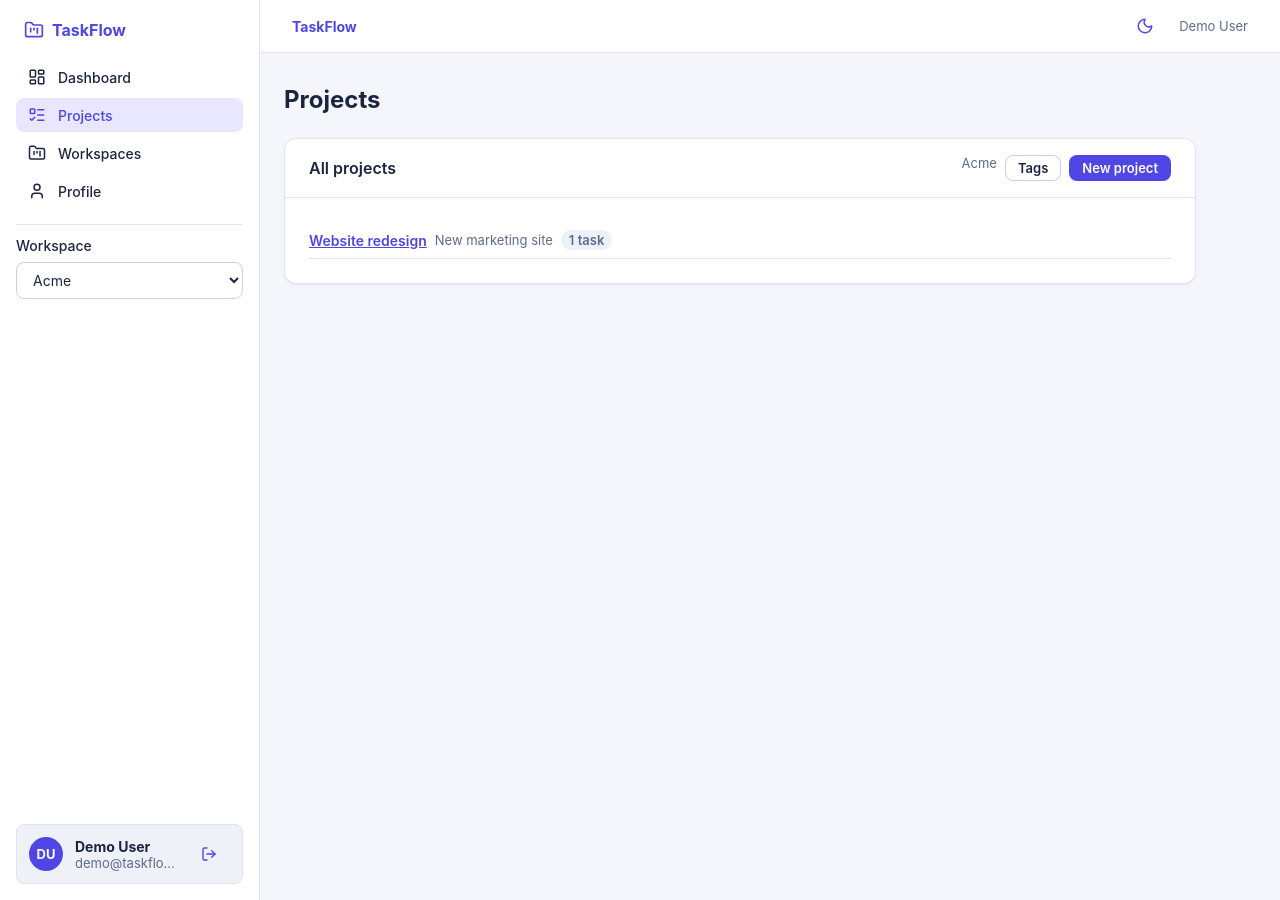
create-pane — "New project opens the creation drawer" (@w2) › opens a labelled dialog with name, description and color fields
Expected: the link "Website redesign" is shown, [309,232,427,248]
Click the button "New project": (1120, 168) [1069,155,1171,181]
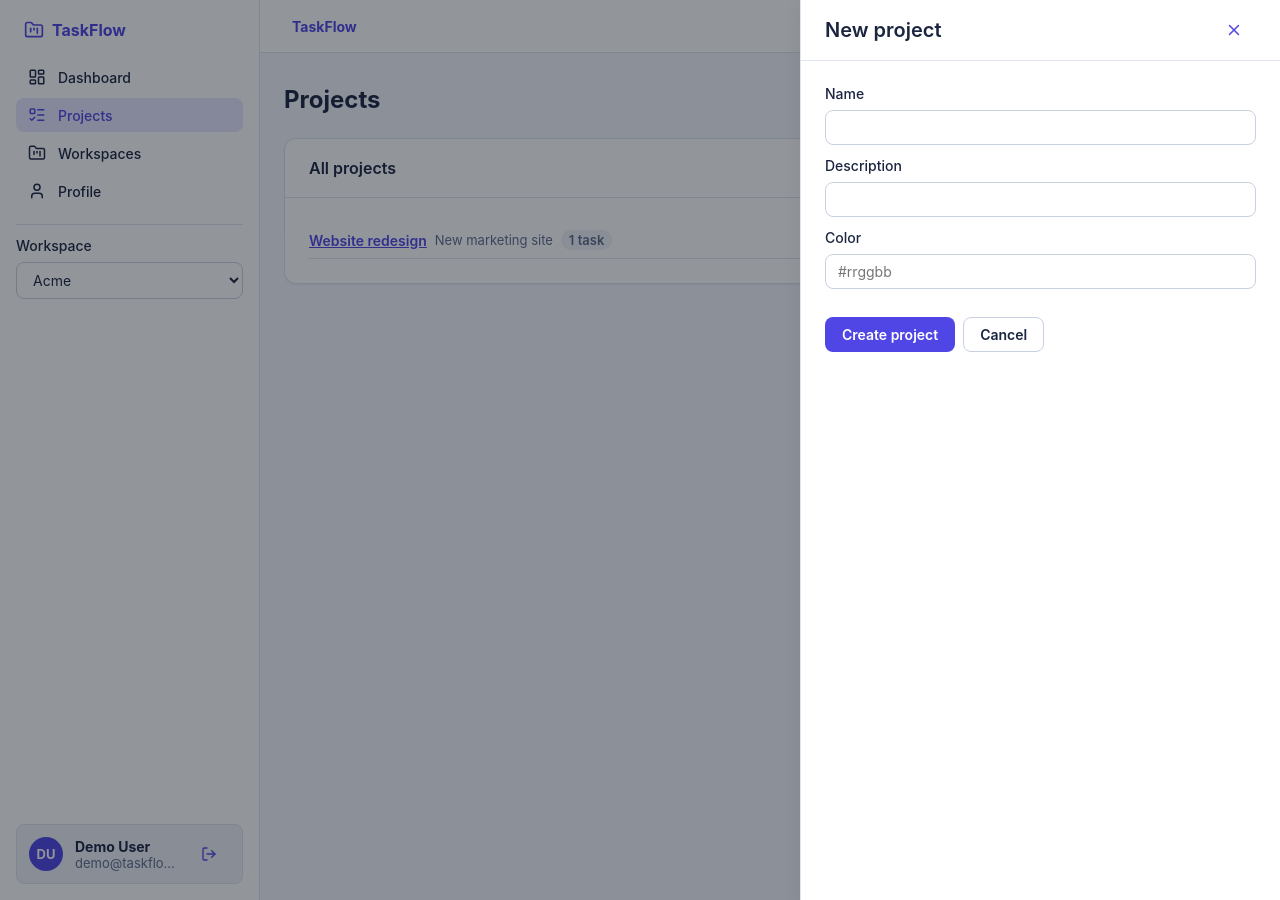
Expected: the field labelled "Name" is shown, [825,110,1256,145]
Expected: the field labelled "Description" is shown, [825,182,1256,217]
Expected: the field labelled "Color" is shown, [825,254,1256,289]
